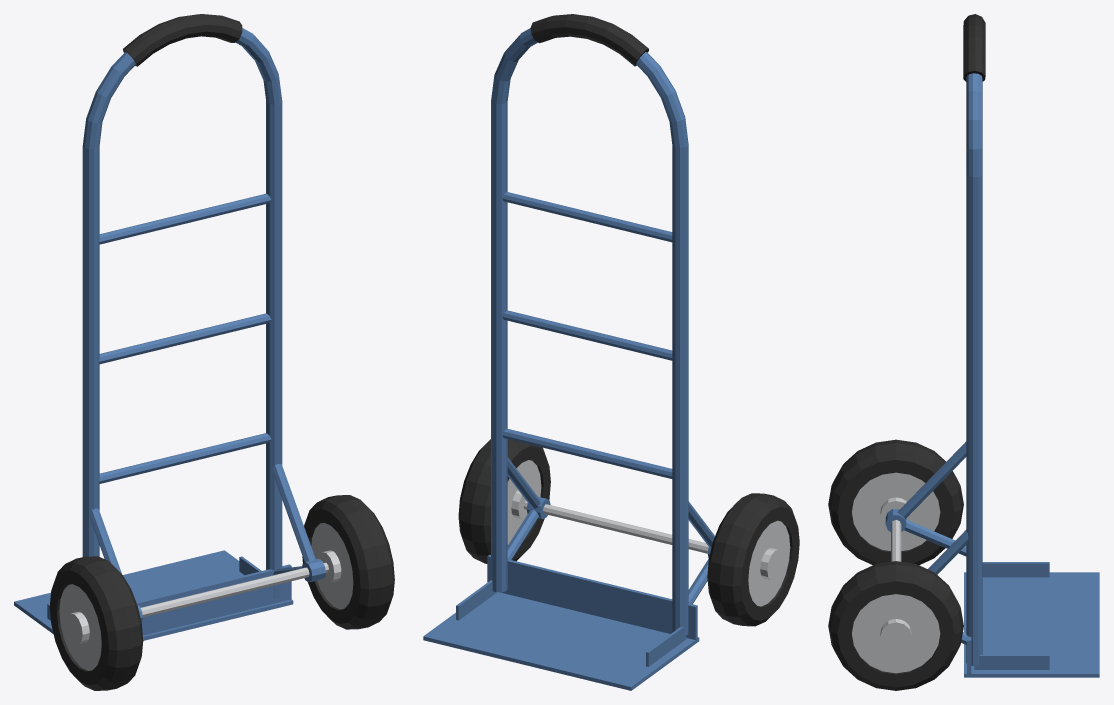
Rendered from handcart.fbx.
The picture shows the model from 3 angles, left to right: view 1: azimuth 30°, elevation 25°; view 2: azimuth 150°, elevation 25°; view 3: azimuth 270°, elevation 25°; orthographic projection.
Visible parts, largest first — view 1: HandCart_LOD0; view 2: HandCart_LOD0; view 3: HandCart_LOD0.
Part boxes in pixels (x1,y1,x2,y2): HandCart_LOD0: (14,14,394,690); HandCart_LOD0: (423,14,799,690); HandCart_LOD0: (828,14,1099,690).
Size of the model in its own units: 0.645 by 0.52 by 1.27.
